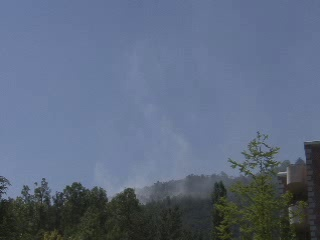smoke: (117, 110, 192, 204)
